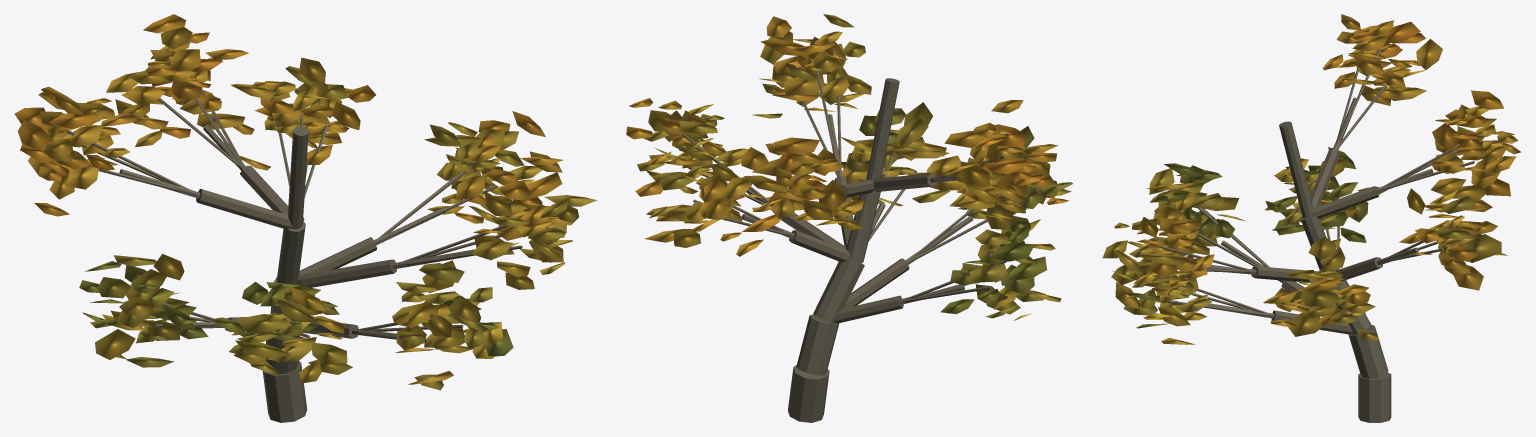
The model's file is ART_PromenadeCherry.lod.glb.
The picture shows the model from 3 angles, left to right: view 1: azimuth 30°, elevation 25°; view 2: azimuth 150°, elevation 25°; view 3: azimuth 270°, elevation 25°; orthographic projection. The views are drawn at different scales.
Visible parts, largest first — view 1: ART_PromenadeCherry; view 2: ART_PromenadeCherry; view 3: ART_PromenadeCherry.
Boxes of the visible parts, <box> form: ART_PromenadeCherry: <box>14,14,596,422</box>; ART_PromenadeCherry: <box>626,14,1073,422</box>; ART_PromenadeCherry: <box>1102,14,1520,422</box>.
Size of the model in its own units: 12.05 by 9 by 10.74.
